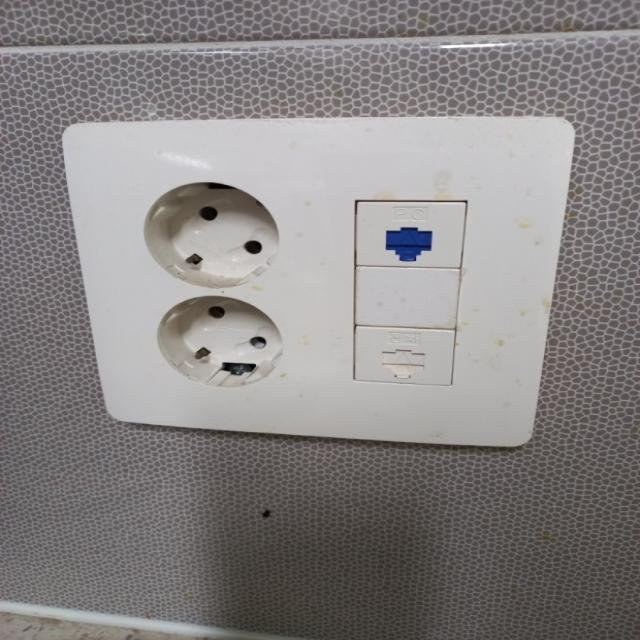typeb: (44, 90, 586, 489)
